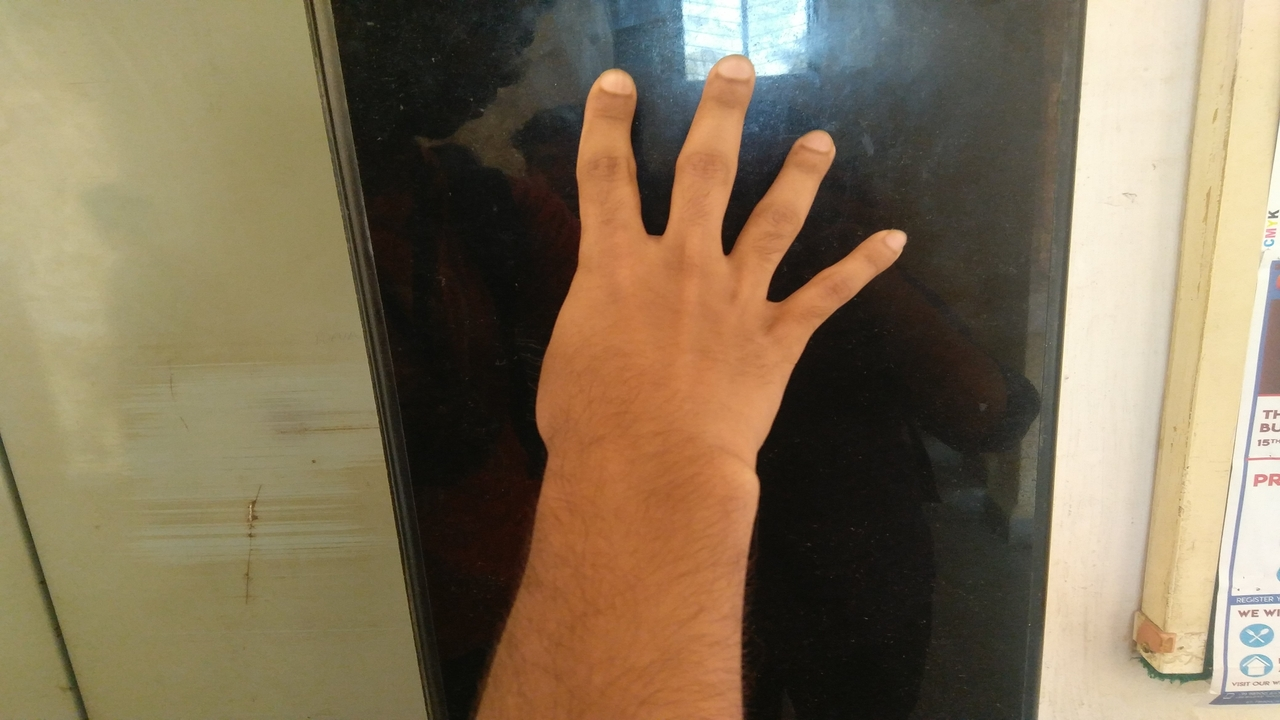fingertip: (846, 218, 920, 266), (782, 120, 846, 170), (580, 62, 640, 106), (702, 52, 756, 92)
